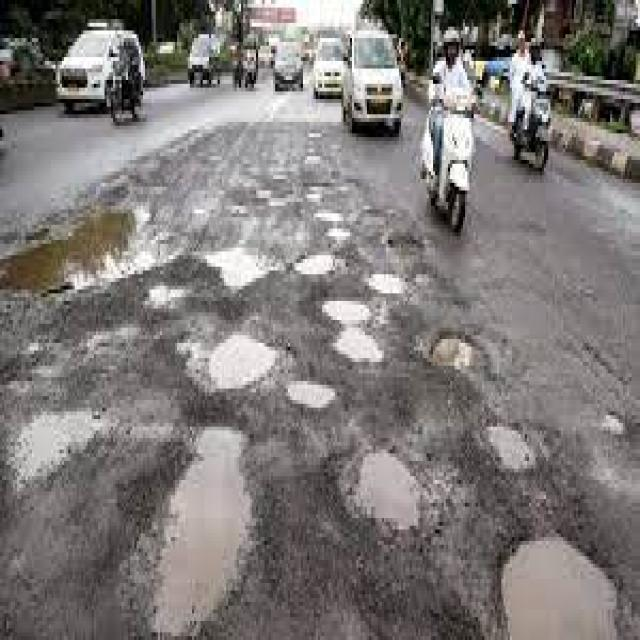Pothole: (156, 427, 245, 640), (503, 537, 619, 640), (358, 453, 418, 522), (207, 335, 279, 392), (422, 331, 489, 389), (486, 427, 531, 472)
